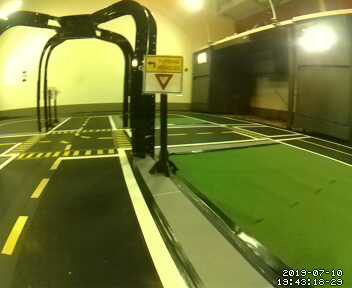Turn Yield: (144, 53, 183, 95)
